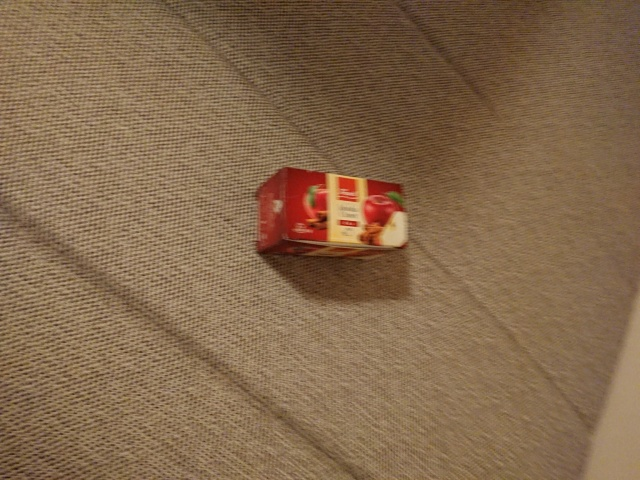Franck Apple Cinnamon Tea 60g: (250, 163, 413, 267)
